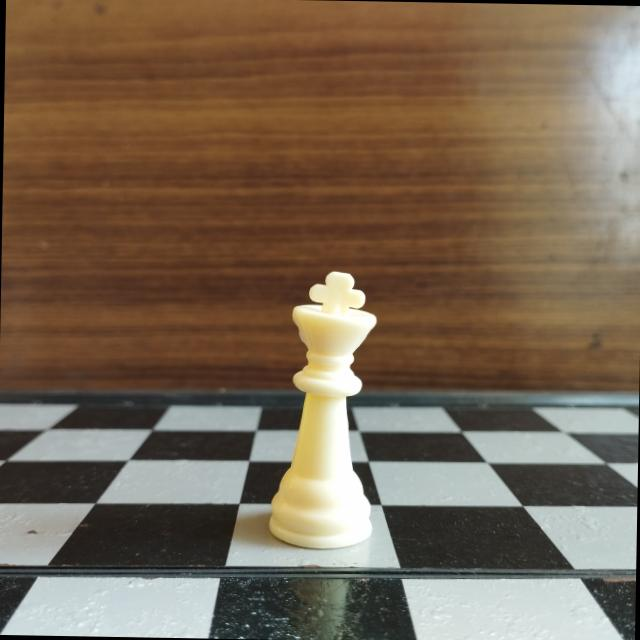White King: (267, 264, 382, 552)
